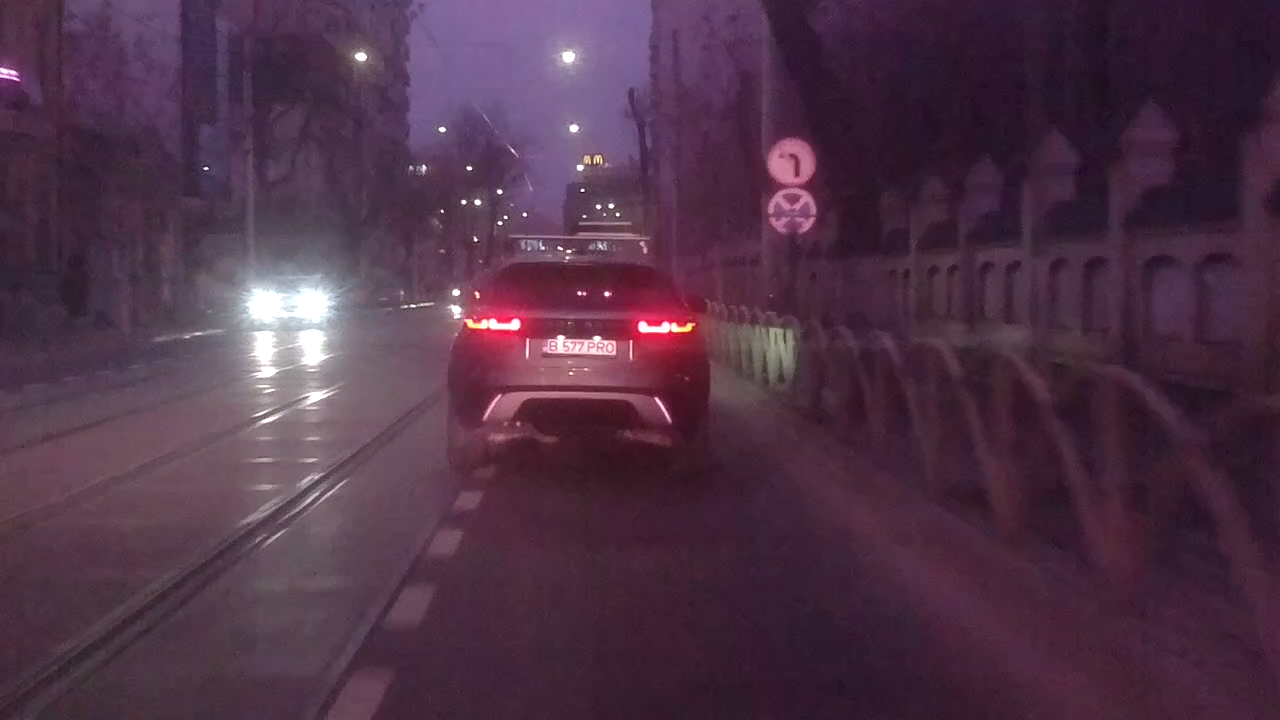license-plate: (538, 337, 619, 357)
